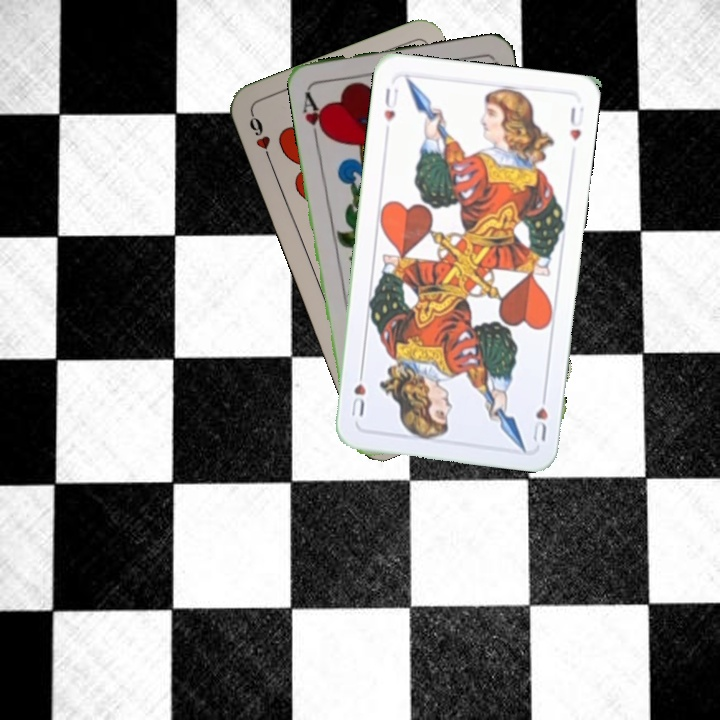H9: (245, 109, 275, 166)
HA: (298, 87, 330, 145)
HU: (529, 387, 551, 444), (380, 84, 401, 125)
